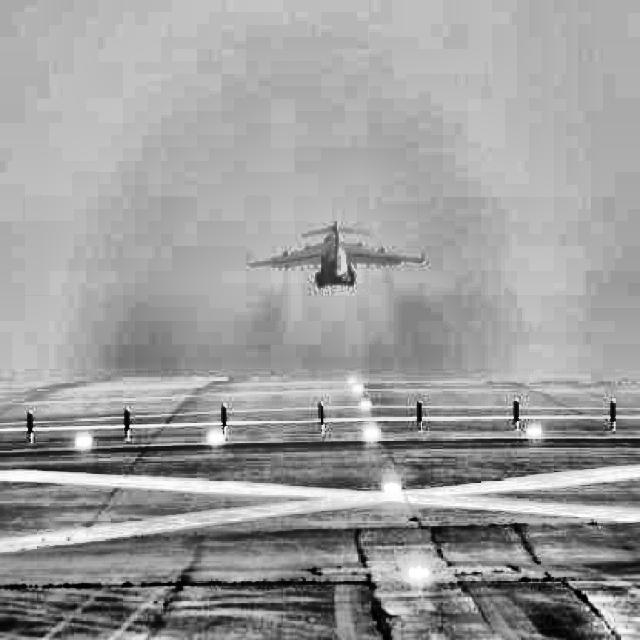C17: (246, 220, 425, 288)
